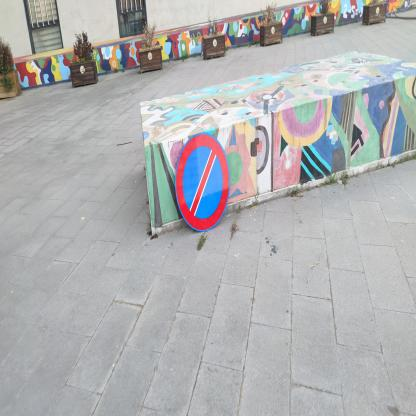No Waiting: (176, 134, 231, 233)
